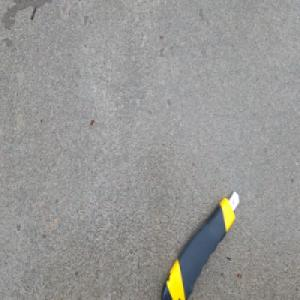Cutter: (158, 189, 240, 300)
